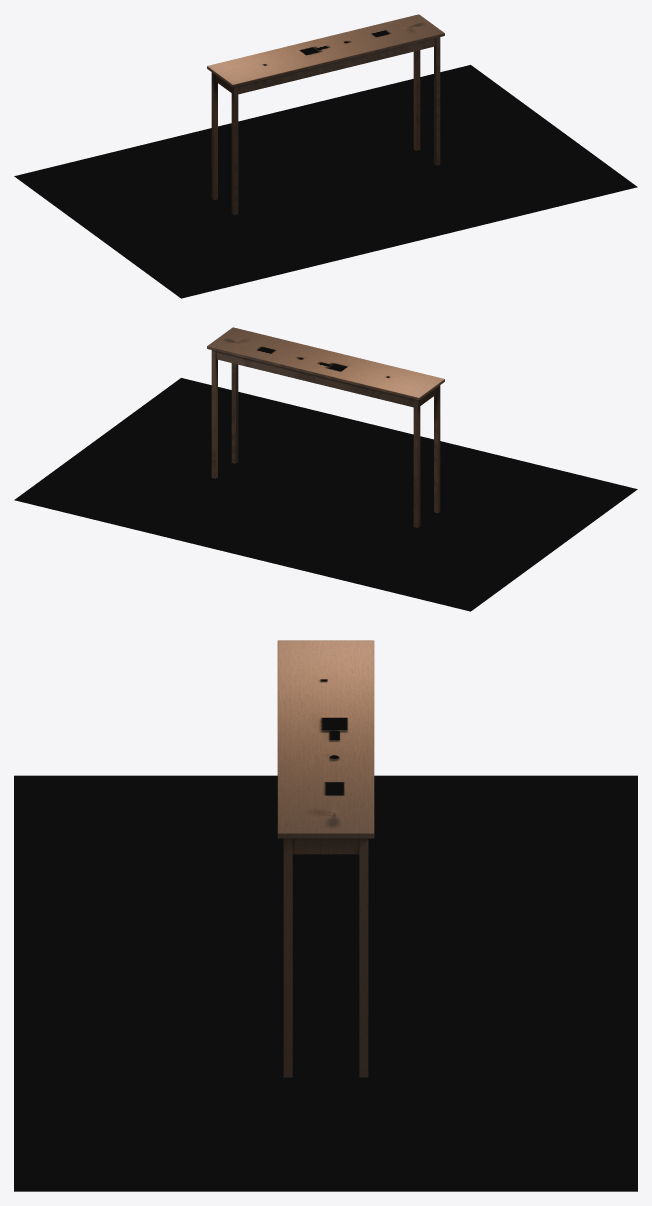
Rendered from 814_gold.glb.
3 views of the same model, one above another, from view 1: azimuth 30°, elevation 25°; view 2: azimuth 150°, elevation 25°; view 3: azimuth 270°, elevation 25° (orthographic). The views are drawn at different scales.
Parts seen in each view (by area): view 1: Shadow, Table; view 2: Shadow, Table; view 3: Shadow, Table.
Part boxes in pixels (x1,y1,x2,y2): Shadow: (14, 65, 637, 298); Table: (207, 14, 444, 214); Shadow: (14, 378, 637, 611); Table: (207, 327, 444, 527); Shadow: (14, 775, 637, 1191); Table: (277, 640, 374, 1077).
Size of the model in its own units: 11.2 by 3.1 by 7.1.
Materials: 2 (2 with a texture image).
